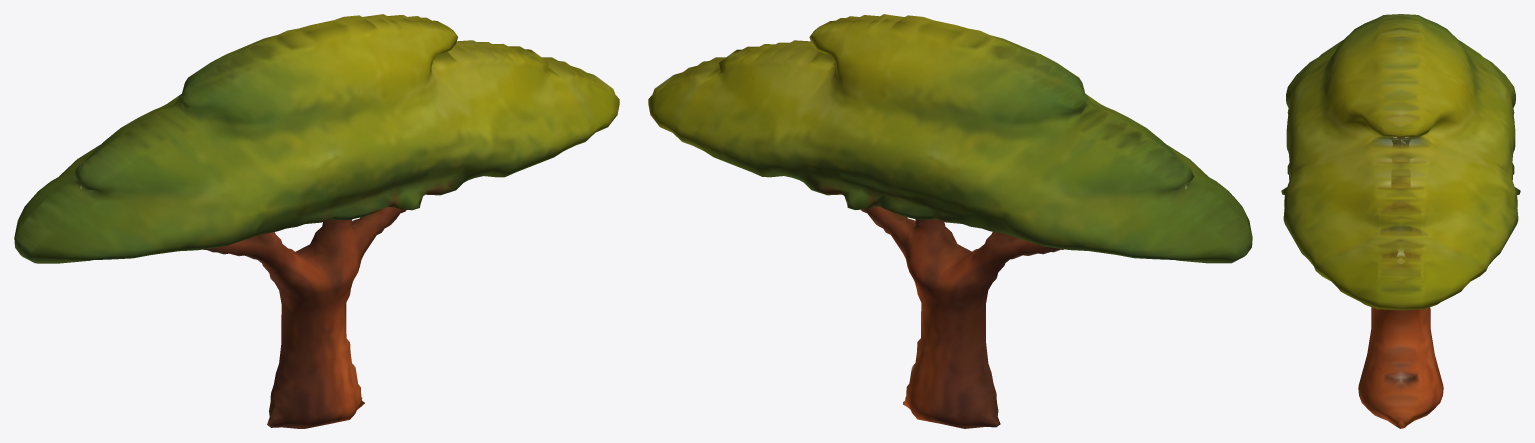
Rendered from 02_acacia_trees_r02_c02.glb.
3 renders of one model, left to right at view 1: azimuth 30°, elevation 25°; view 2: azimuth 150°, elevation 25°; view 3: azimuth 270°, elevation 25°, orthographic. The views are drawn at different scales.
Visible parts, largest first — view 1: 02_acacia_trees_r02_c02; view 2: 02_acacia_trees_r02_c02; view 3: 02_acacia_trees_r02_c02.
Part boxes in pixels (bbox=[...]): 02_acacia_trees_r02_c02: bbox=[14, 14, 619, 428]; 02_acacia_trees_r02_c02: bbox=[648, 14, 1252, 428]; 02_acacia_trees_r02_c02: bbox=[1281, 14, 1520, 428].
Bounding box in the file's own units: 2.4 × 1.49 × 0.8827.
Materials: 1 (1 with a texture image).
